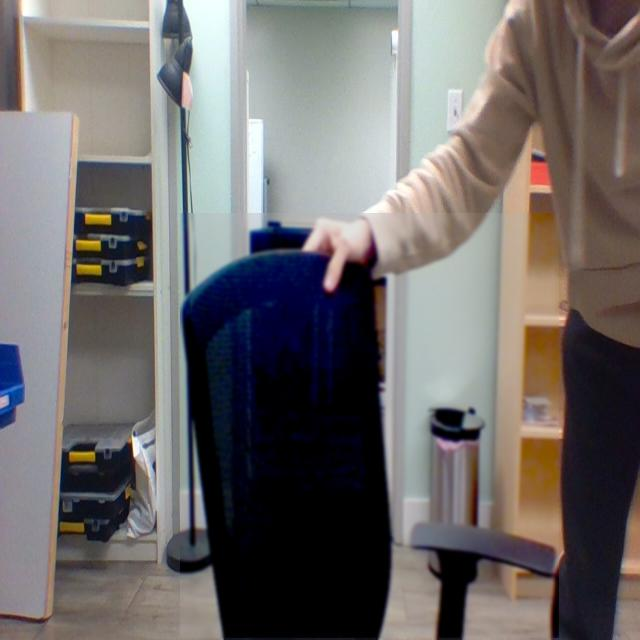black-chair: (180, 213, 560, 639)
